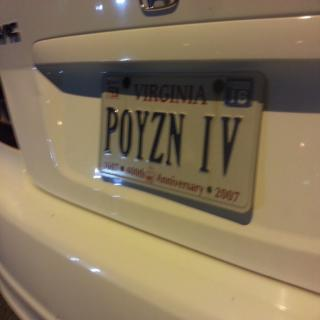license: (98, 73, 267, 215)
